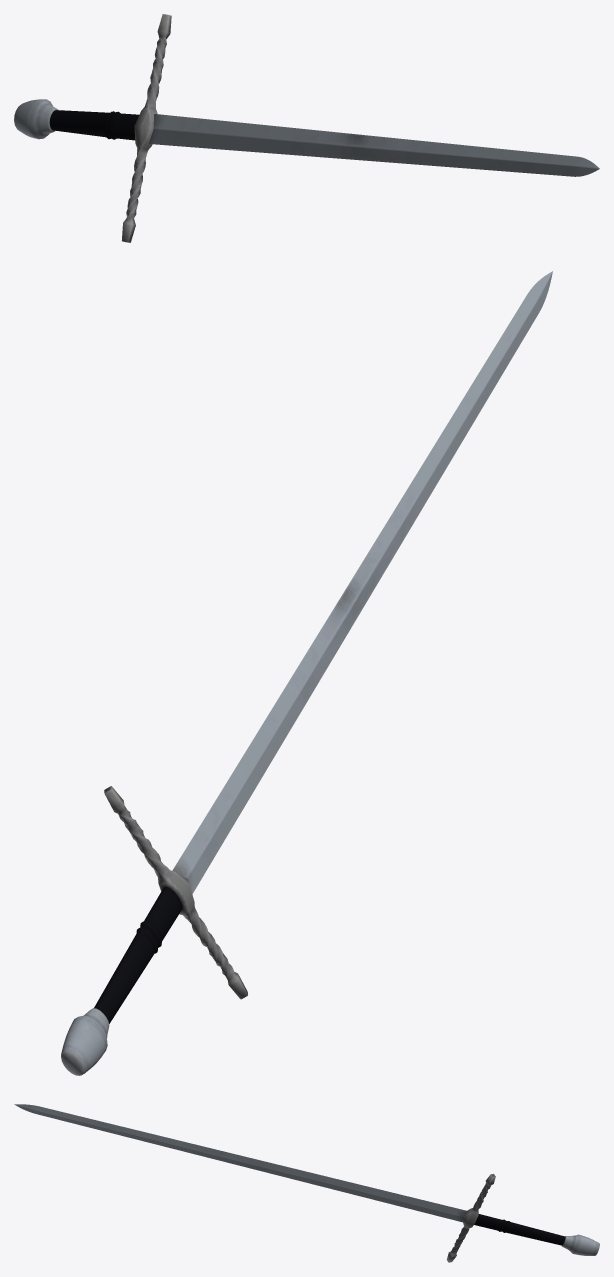
The model's file is Battle_Axe_Mage.fbx.
3 renders of one model, top to bottom at view 1: azimuth 30°, elevation 25°; view 2: azimuth 150°, elevation 25°; view 3: azimuth 270°, elevation 25°, orthographic. The views are drawn at different scales.
Parts seen in each view (by area): view 1: LongSword02; view 2: LongSword02; view 3: LongSword02.
Part boxes in pixels (left/top/right/bottom): LongSword02: left=14, top=14, right=599, bottom=242; LongSword02: left=61, top=271, right=552, bottom=1075; LongSword02: left=14, top=1104, right=599, bottom=1262.
Size of the model in its own units: 0.3477 by 0.9504 by 2.68.
1 material, 1 textured.
